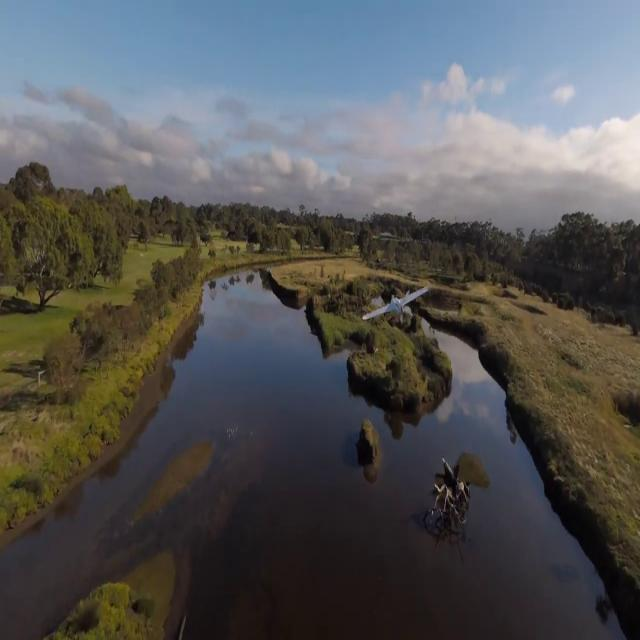iha: (387, 286, 390, 331)
